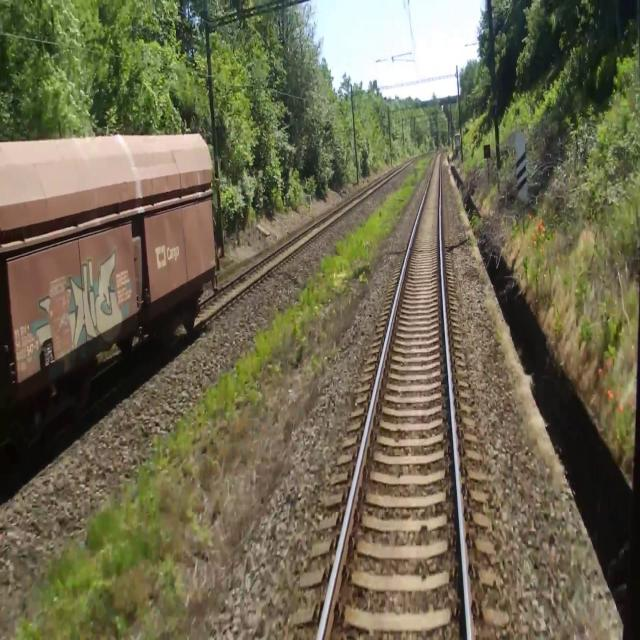rail-track: (322, 151, 466, 639), (202, 164, 407, 317)
